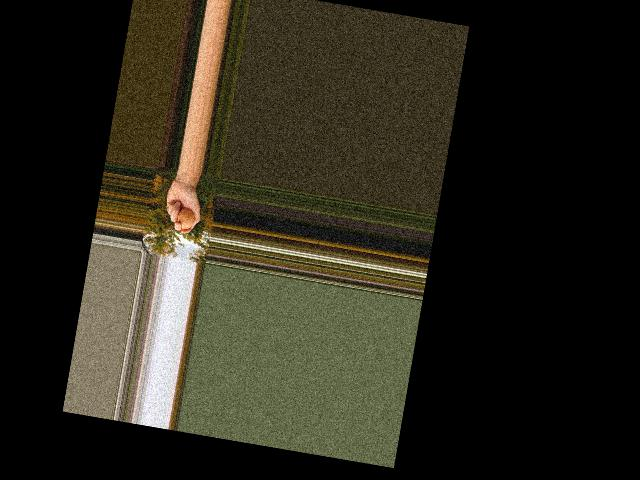egg: (175, 207, 195, 230)
